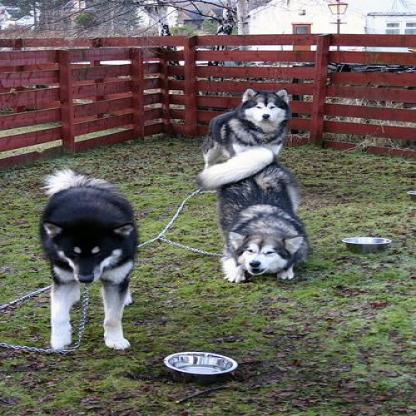malamute: (32, 165, 136, 350), (194, 145, 310, 283), (199, 85, 297, 167)
